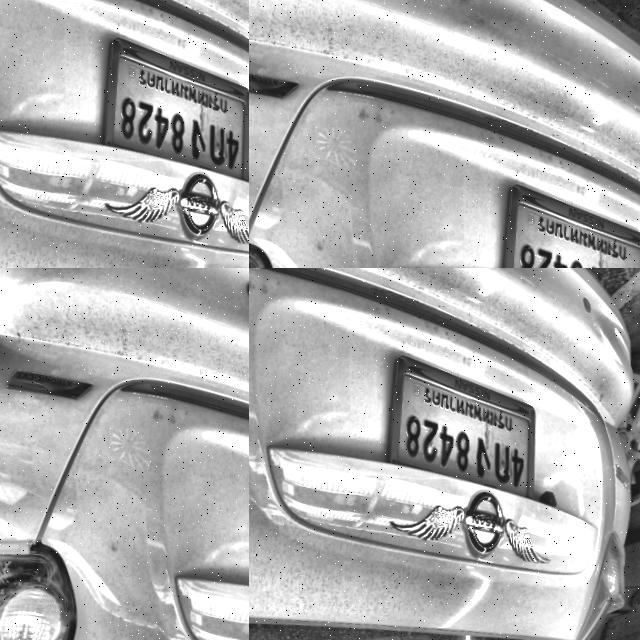license-plate: (389, 350, 542, 515), (401, 233, 471, 268)
